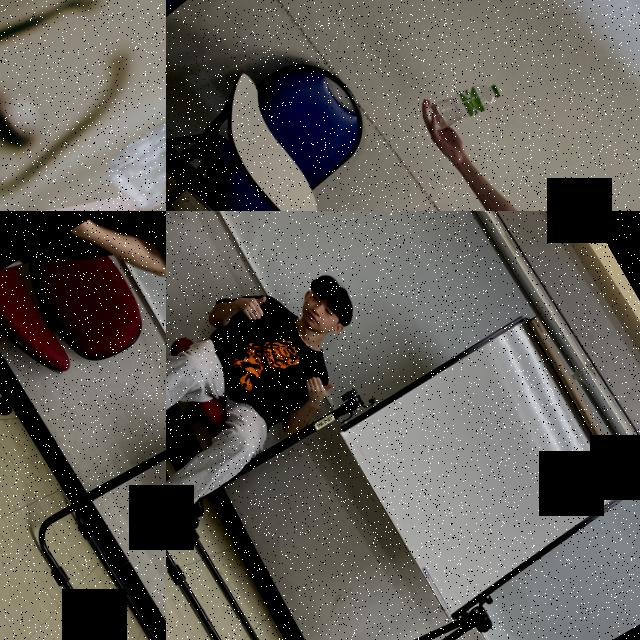bottle: (96, 98, 166, 211), (418, 70, 506, 142)
